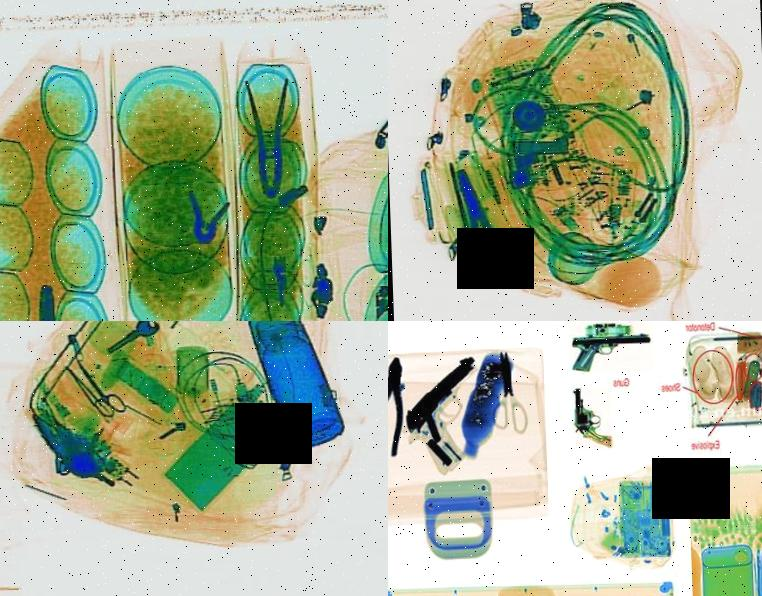Gun: (567, 321, 656, 371), (571, 381, 616, 448)
Knife: (488, 349, 532, 432)
Pliers: (450, 162, 512, 282), (244, 77, 293, 199), (180, 188, 237, 247), (388, 356, 407, 456), (35, 282, 67, 321)
Scissors: (65, 352, 131, 423)
